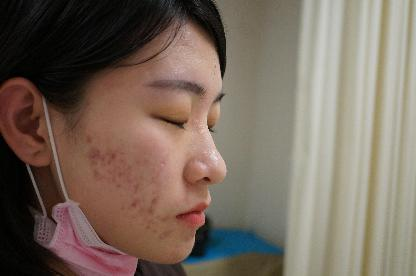acne scar: (83, 144, 106, 173), (118, 163, 135, 184), (127, 194, 144, 214), (108, 171, 123, 193), (147, 196, 162, 216), (83, 131, 98, 150), (130, 181, 145, 198)
